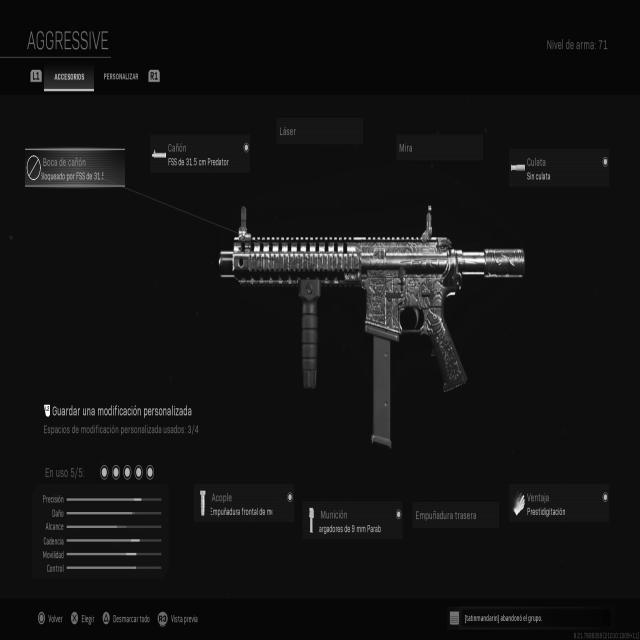Sub-machine-gun: (212, 203, 528, 456)
